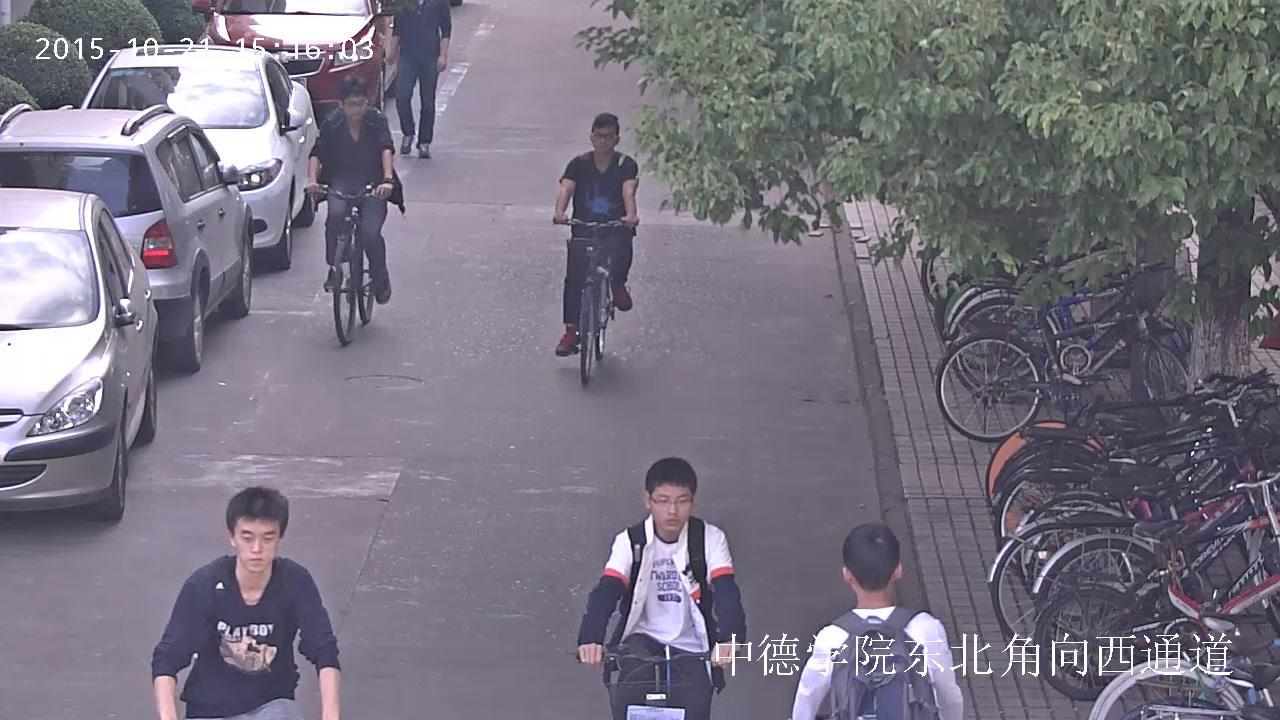face: (235, 517, 279, 572), (650, 483, 691, 531), (593, 125, 616, 151), (344, 94, 366, 121)
